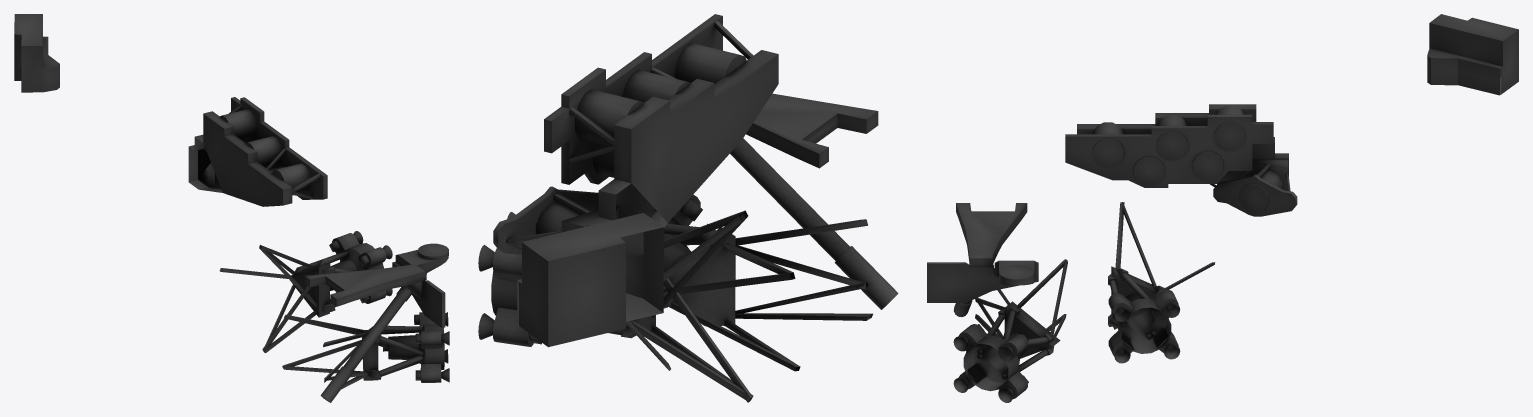
The picture shows the model from 3 angles, left to right: view 1: azimuth 30°, elevation 25°; view 2: azimuth 150°, elevation 25°; view 3: azimuth 270°, elevation 25°; orthographic projection. The views are drawn at different scales.
Visible parts, largest first — view 1: node; view 2: node; view 3: node.
Boxes of the visible parts, x1,y1,x2,y2 form: node: [14, 14, 449, 402]; node: [478, 14, 898, 402]; node: [927, 14, 1518, 402].
Bounding box in the file's own units: 0.6596 × 1.27 × 0.6226.
Materials: 1 (1 with a texture image).
